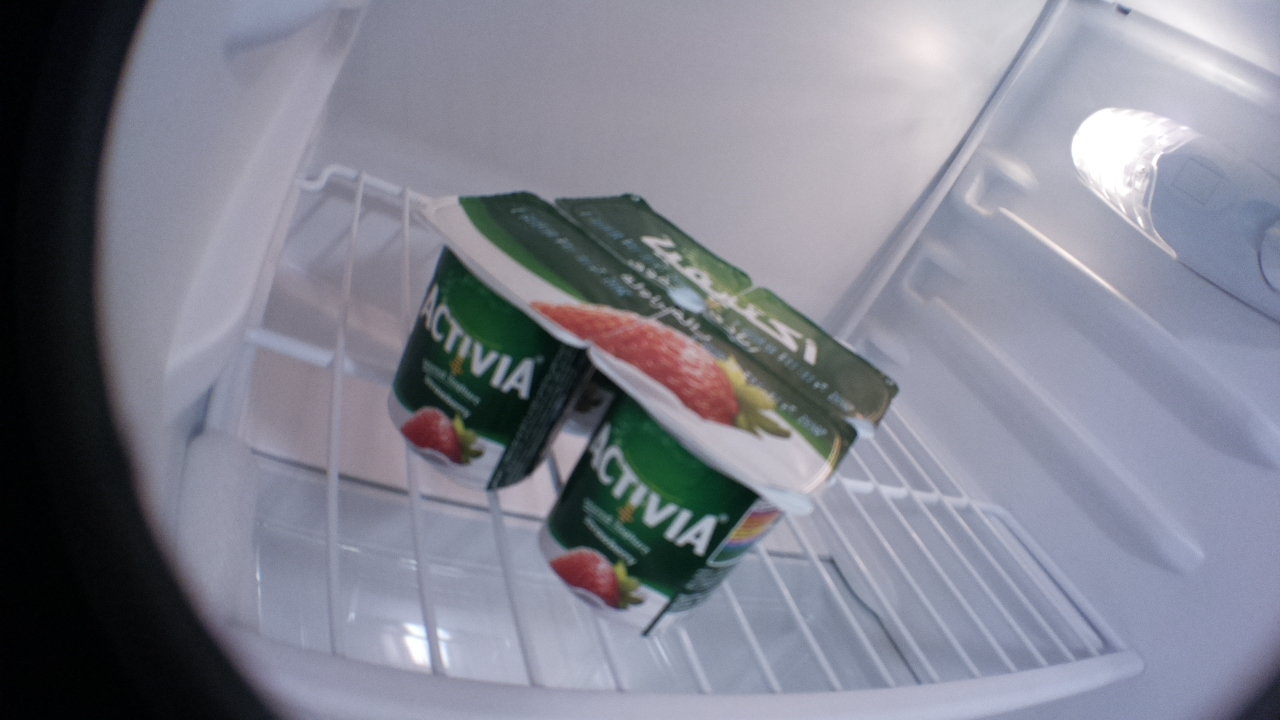yoghurt: (542, 309, 859, 654), (385, 188, 665, 486), (706, 286, 902, 435), (547, 192, 750, 317)
